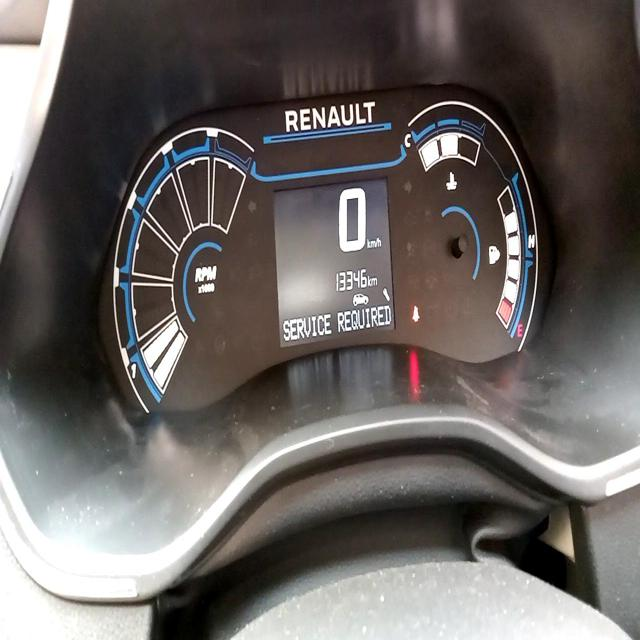odometer: (333, 265, 368, 294)
